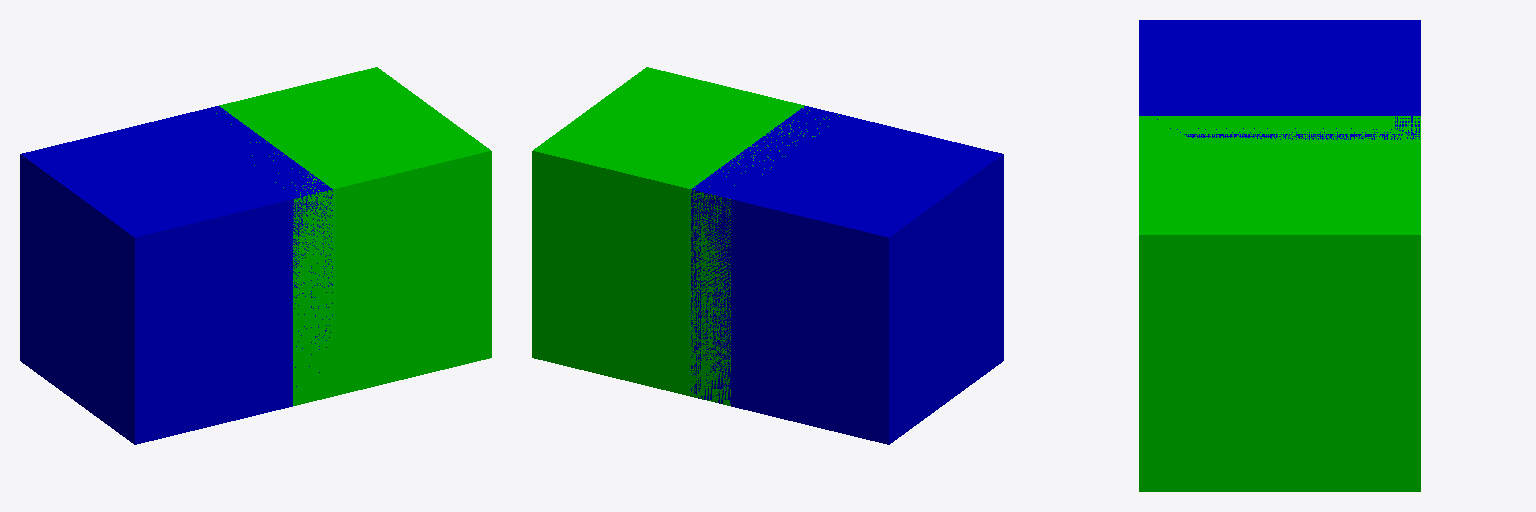
robot.urdf — A_vs_B:
<?xml version="1.0"?>
<robot name="A_vs_B">
  <material name="blue">
    <color rgba="0 0 0.8 .5"/>
  </material>
  <material name="green">
    <color rgba="0 0.8 0 .5"/>
  </material>
  <link name="A">
    <visual>
      <geometry>
        <box size="1 1 1"/>
      </geometry>
      <origin rpy="0.0 0 0" xyz="-0.4 0 0"/>
      <material name="blue"/>
    </visual>
    <collision>
      <geometry>
        <box size="1 1 1"/>
      </geometry>
      <origin rpy="0.0 0 0" xyz="-0.4 0 0"/>
      <material name="blue"/>
    </collision>
  </link>
  <link name="B">
    <visual>
      <geometry>
        <box size="1 1 1"/>
      </geometry>
      <origin rpy="0 0 0" xyz="0.4 0 0"/>
      <material name="green"/>
    </visual>
    <collision>
      <geometry>
        <box size="1 1 1"/>
      </geometry>
      <origin rpy="0 0 0" xyz="0.4 0 0"/>
      <material name="green"/>
    </collision>
  </link>
  <joint name="joint1" type="revolute">
    <axis xyz="0 0 1"/>
    <limit effort="1" lower="-1" upper="1" velocity="1"/>
    <origin rpy="0 0 0" xyz="0 0 0"/>
    <parent link="A"/>
    <child link="B"/>
  </joint>
</robot>

--- Render facts (derived) ---
The picture shows the robot from 3 angles, left to right: view 1: azimuth 30°, elevation 25°; view 2: azimuth 150°, elevation 25°; view 3: azimuth 270°, elevation 25°; orthographic projection.
Model A_vs_B with 2 links and 1 joints (1 revolute), rooted at A, posed all joints at 0.
Links seen in each view (by area): view 1: A, B; view 2: A, B; view 3: B, A.
Link boxes in pixels (box(x1,y1,x2,y2)): A: box(20, 106, 332, 444); B: box(216, 67, 491, 405); A: box(691, 106, 1003, 444); B: box(532, 67, 839, 405); B: box(1139, 116, 1420, 491); A: box(1139, 20, 1420, 139).
Bounding box of the posed robot: 1.8 × 1 × 1 m (x, y, z).
Geometry: primitives only (box / cylinder / sphere), no mesh files.